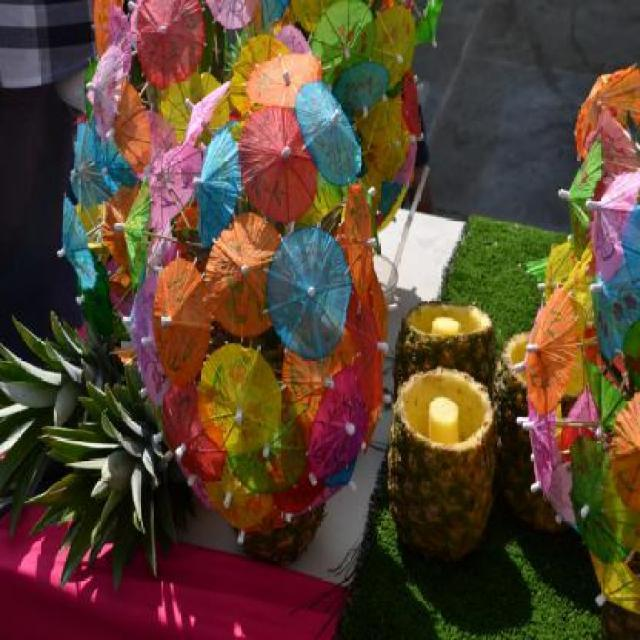Pineapple: (389, 356, 503, 550), (394, 295, 498, 403)
